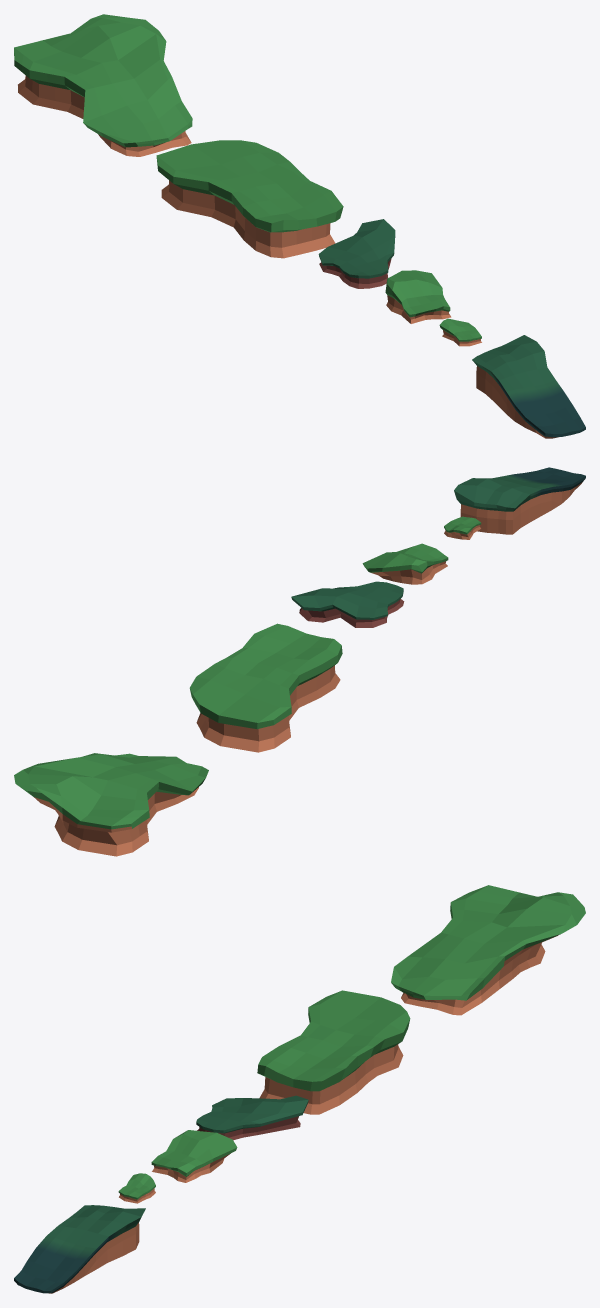
File: Terrain.fbx
3 views of the same model, one above another, from view 1: azimuth 30°, elevation 25°; view 2: azimuth 150°, elevation 25°; view 3: azimuth 330°, elevation 25° (orthographic).
Visible parts, largest first — view 1: Terrain.003, Terrain.004, Terrain.005, Terrain.002, Terrain, Terrain.001; view 2: Terrain.004, Terrain.003, Terrain.005, Terrain.002, Terrain, Terrain.001; view 3: Terrain.003, Terrain.004, Terrain.005, Terrain.002, Terrain, Terrain.001.
Boxes of the visible parts, x1,y1,x2,y2 form: Terrain.003: (14,14,192,156); Terrain.004: (156,140,343,258); Terrain.005: (472,335,585,438); Terrain.002: (318,219,395,288); Terrain: (385,270,451,323); Terrain.001: (439,318,481,346); Terrain.004: (189,623,342,752); Terrain.003: (14,753,208,856); Terrain.005: (454,467,585,534); Terrain.002: (291,581,404,627); Terrain: (362,543,448,584); Terrain.001: (444,516,481,539); Terrain.003: (391,885,585,1015); Terrain.004: (257,990,410,1114); Terrain.005: (14,1205,145,1293); Terrain.002: (196,1095,308,1140); Terrain: (151,1130,237,1182); Terrain.001: (118,1173,155,1203).
Bounding box in the file's own units: 1230 × 488 × 8419.
Materials: 1 (1 with a texture image).
